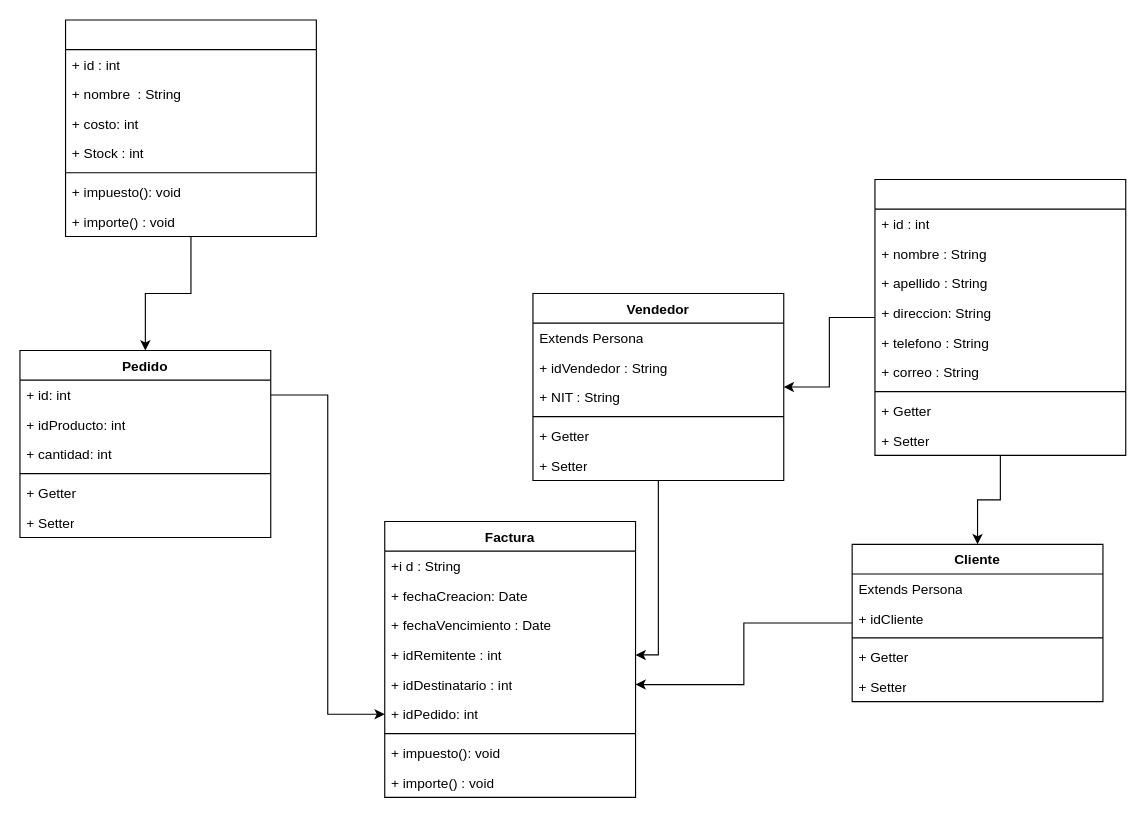
The diagram is 1146 pixels wide and 821 high, and some of its shapes have lost their labels. Each missing label, with the box of its shape:
Persona: (874, 178, 1126, 455)
Producto: (64, 19, 316, 237)
